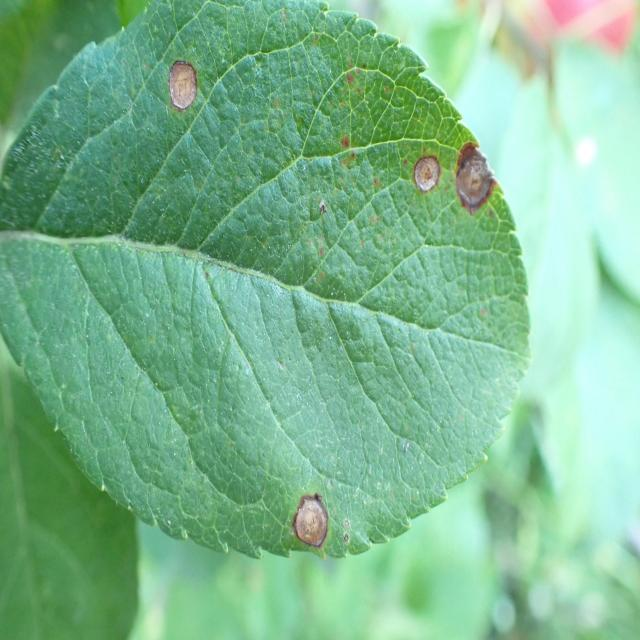Black Rot: (145, 45, 213, 138), (452, 130, 503, 246), (286, 476, 337, 586), (398, 127, 444, 219)
